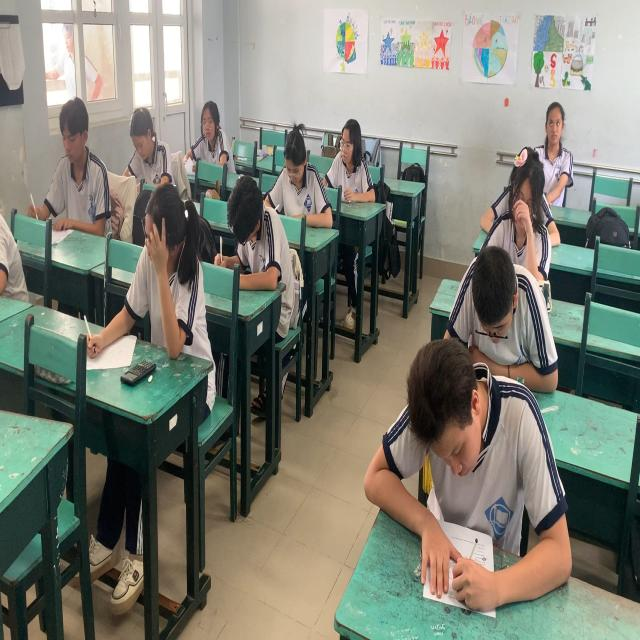not_cheating: (402, 338, 516, 510), (447, 248, 552, 379), (128, 178, 200, 362), (48, 87, 102, 223), (218, 187, 277, 296), (498, 144, 550, 255), (118, 100, 173, 186), (277, 117, 316, 236), (335, 120, 376, 216), (539, 87, 577, 180), (188, 89, 232, 167)
